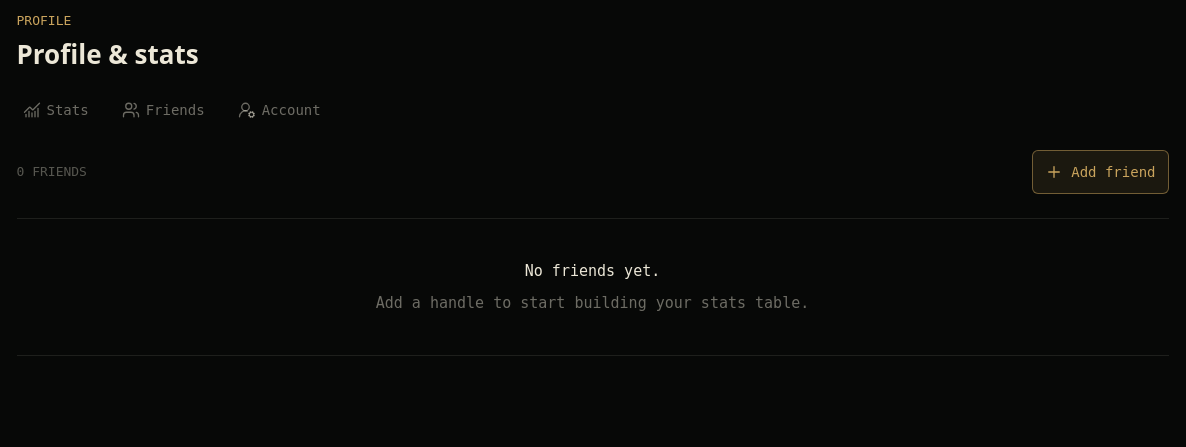
Test: Profile friends page › sends friend requests by handle from the friends page
Expected: the text "No friends yet." is shown, x1=525 y1=262 x2=660 y2=280
Click the button "Add friend" at point(1100, 172), box x1=1032 y1=150 x2=1168 y2=194
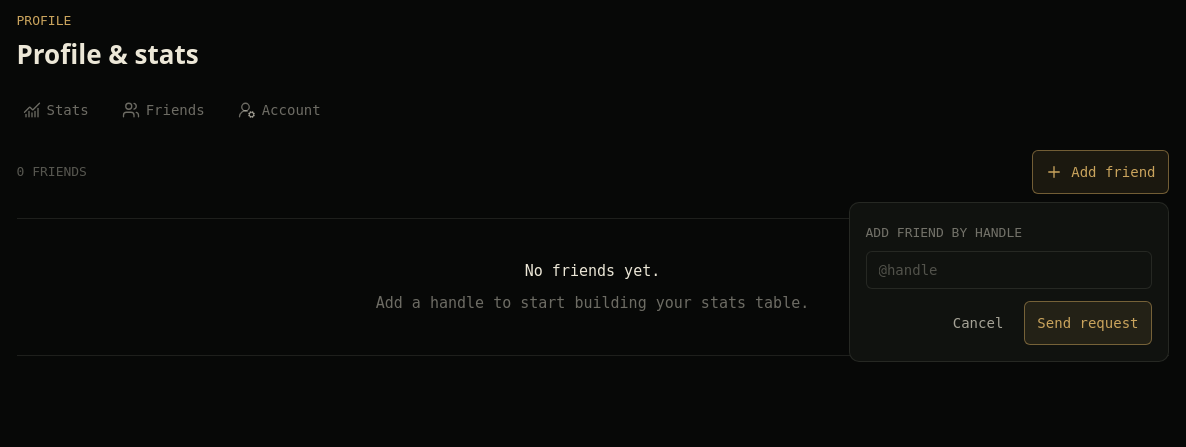
Result: the form named "Add a friend" is shown at x1=848 y1=202 x2=1168 y2=362
Type "@kkk" into the field labelled "Add friend by handle" at point(1008, 270), box x1=866 y1=251 x2=1152 y2=289
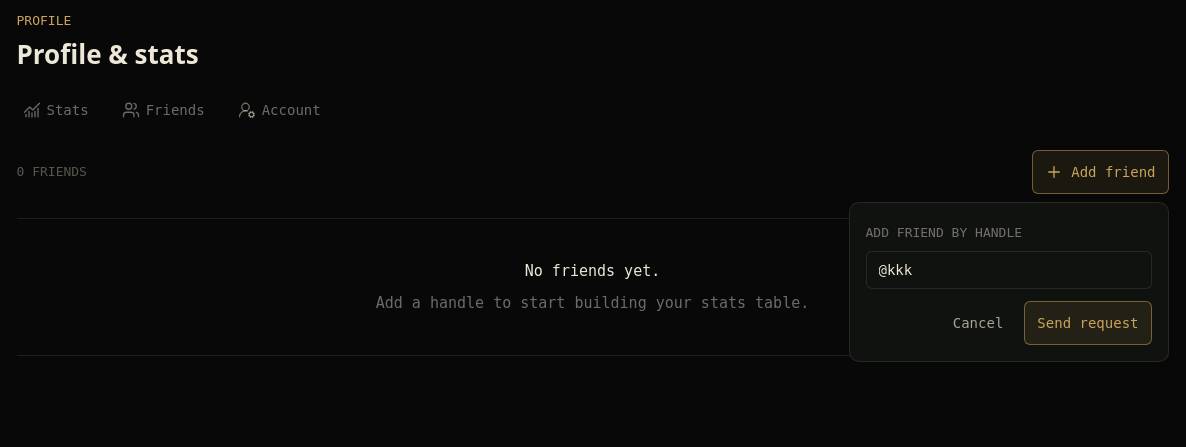
Click the button "Send request" at point(1088, 323), box x1=1024 y1=301 x2=1152 y2=345
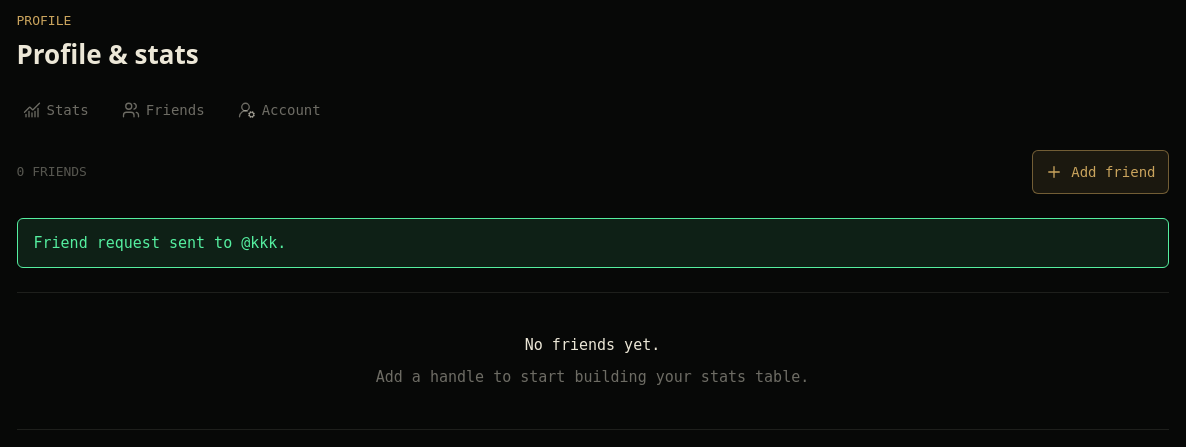
Result: the text "Friend request sent to @kkk." is shown at x1=16 y1=218 x2=1168 y2=268
